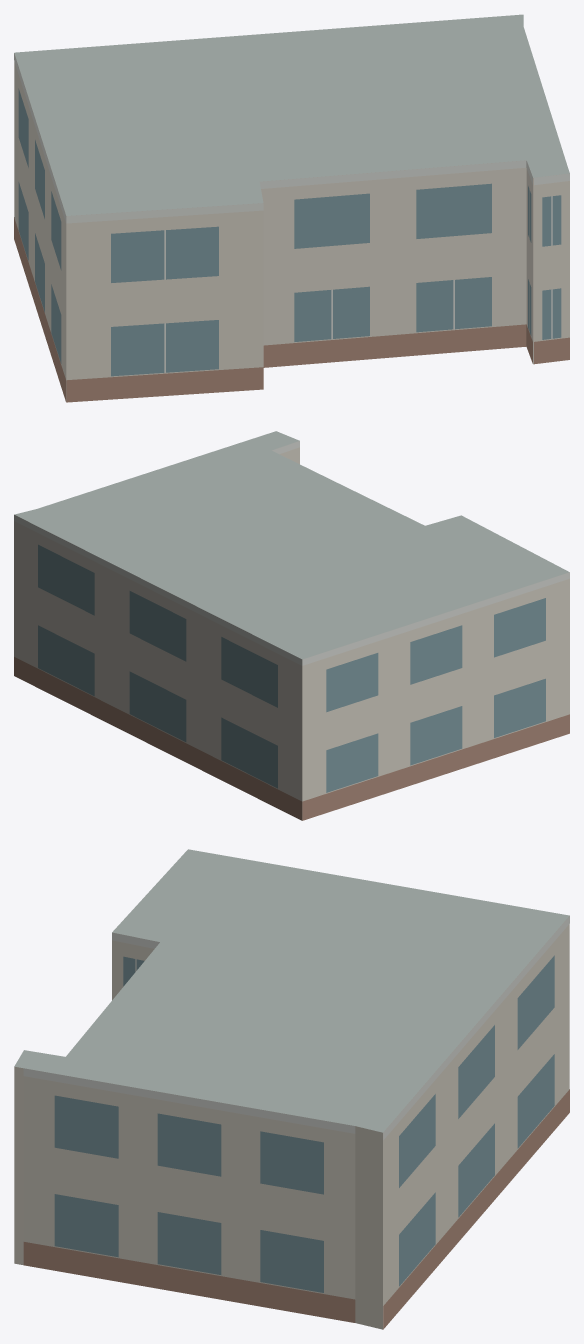
File: survey-upis-32983046.glb
The picture shows the model from 3 angles, top to bottom: view 1: azimuth 30°, elevation 25°; view 2: azimuth 150°, elevation 25°; view 3: azimuth 270°, elevation 25°; orthographic projection. The views are drawn at different scales.
Visible parts, largest first — view 1: survey-upis-32983046.tmp; view 2: survey-upis-32983046.tmp; view 3: survey-upis-32983046.tmp.
Part boxes in pixels (left/top/right/bottom): survey-upis-32983046.tmp: left=14, top=14, right=569, bottom=402; survey-upis-32983046.tmp: left=14, top=431, right=569, bottom=820; survey-upis-32983046.tmp: left=14, top=849, right=569, bottom=1329.
Bounding box in the file's own units: 18.83 × 6.1 × 15.6.
